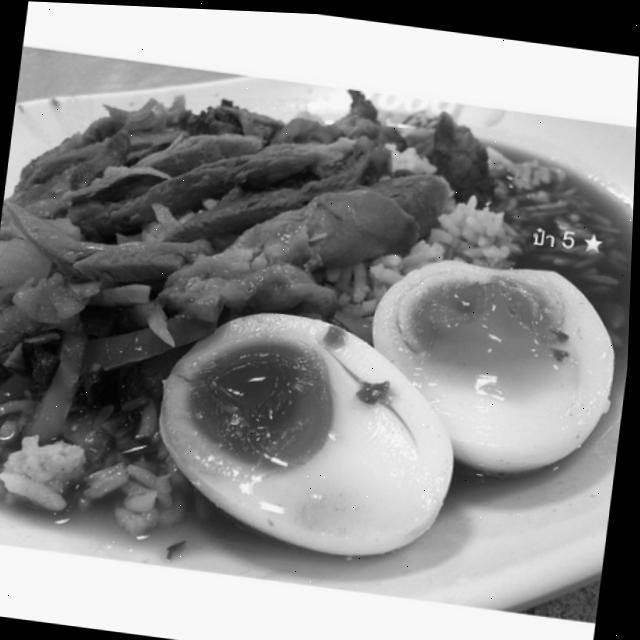猪肉菜式: (0, 48, 639, 610)
